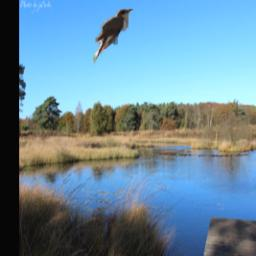Cuckoo: (93, 7, 133, 64)
